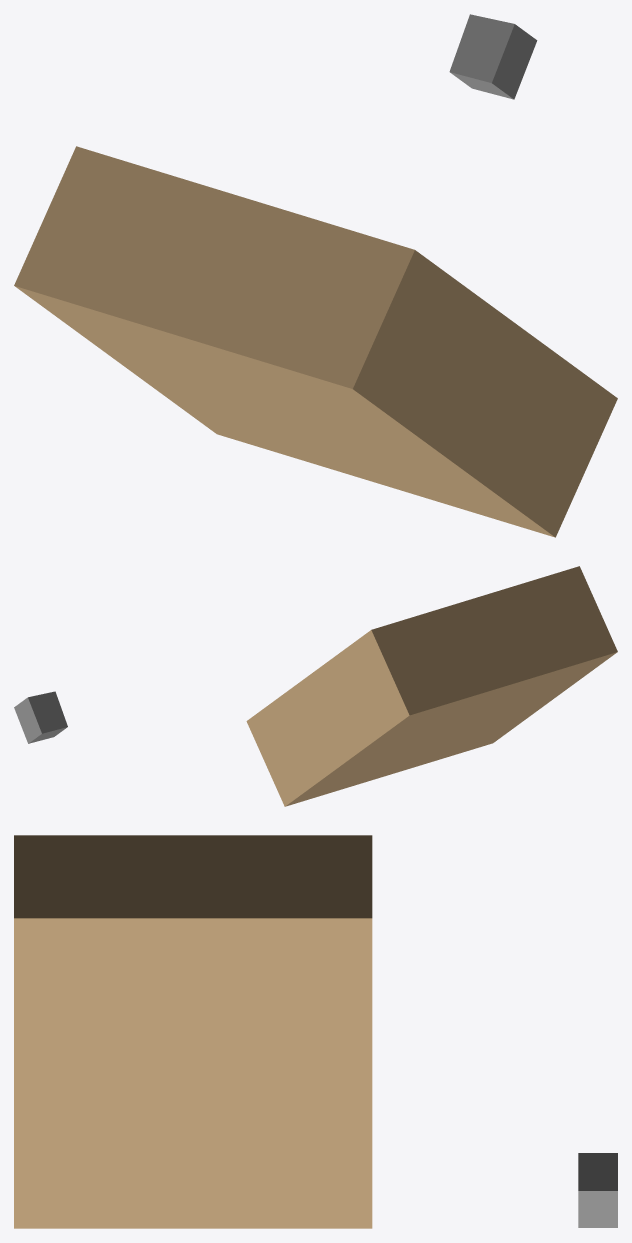
The picture shows the model from 3 angles, top to bottom: view 1: azimuth 30°, elevation 25°; view 2: azimuth 150°, elevation 25°; view 3: azimuth 270°, elevation 25°; orthographic projection. The views are drawn at different scales.
Parts seen in each view (by area): view 1: 0_3_1_3_3_3_0_3; view 2: 0_3_1_3_3_3_0_3; view 3: 0_3_1_3_3_3_0_3.
Boxes of the visible parts, x1,y1,x2,y2 form: 0_3_1_3_3_3_0_3: (14,14,617,537); 0_3_1_3_3_3_0_3: (14,566,617,806); 0_3_1_3_3_3_0_3: (14,835,617,1228).
Bounding box in the file's own units: 49.15 × 22.78 × 45.5.
